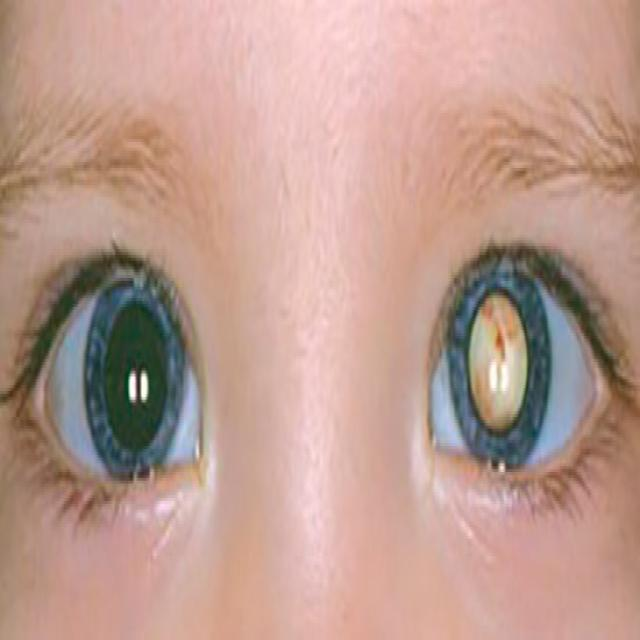reflexo-alterado: (403, 210, 593, 541)
reflexo-normal: (62, 276, 186, 486)
